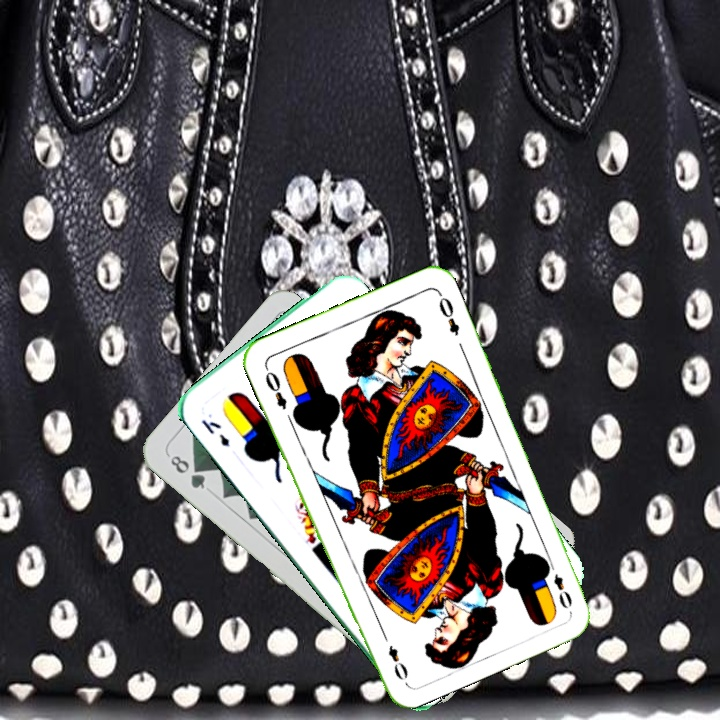EK: (197, 415, 232, 450)
EO: (542, 556, 575, 612), (261, 362, 290, 412)
G8: (166, 451, 208, 492)
